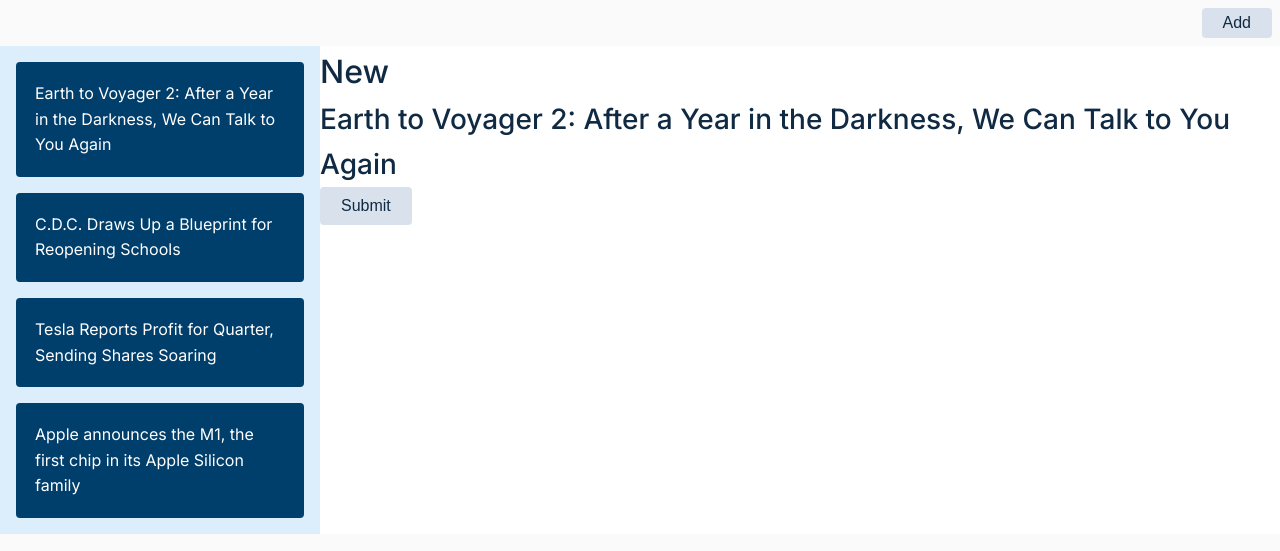
Test: MasterDetail › clicking on an item in master shows it in detail
The width and height of the screenshot is (1280, 551).
Note: Select an item in master
Click the text "C.D.C. Draws Up a Blueprint for Reopening Schools" at (160, 237), box [16,193,304,282]
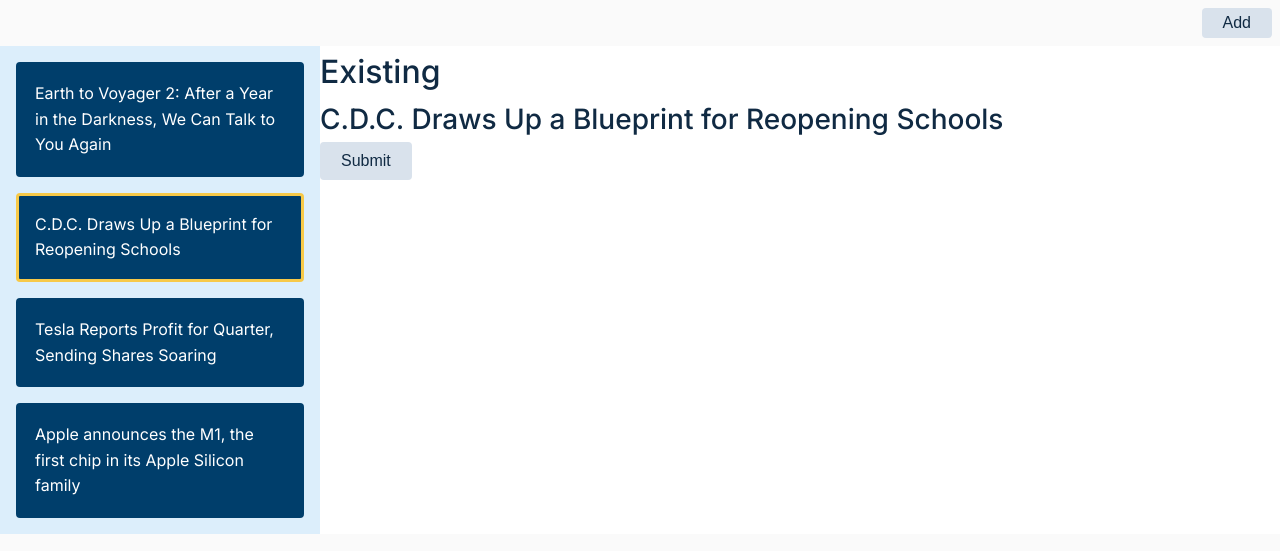
Check: the heading "Existing" is shown, box [320,52,440,91]
Check: the heading "C.D.C. Draws Up a Blueprint for Reopening Schools" is shown, box [320,102,1004,136]
